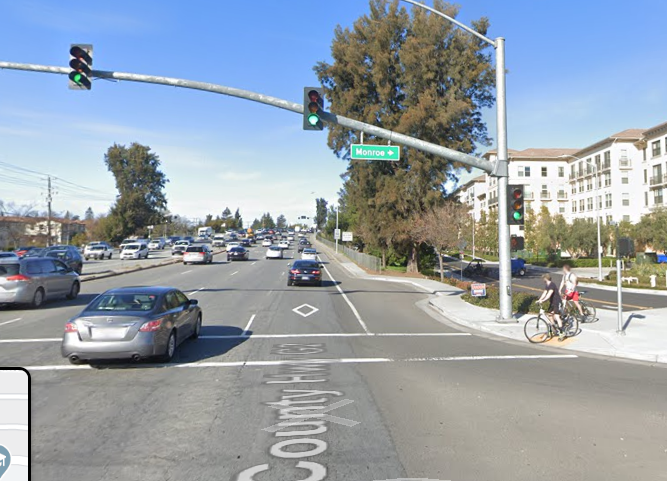green_light: (68, 43, 89, 89), (305, 88, 323, 129), (507, 187, 523, 223)
